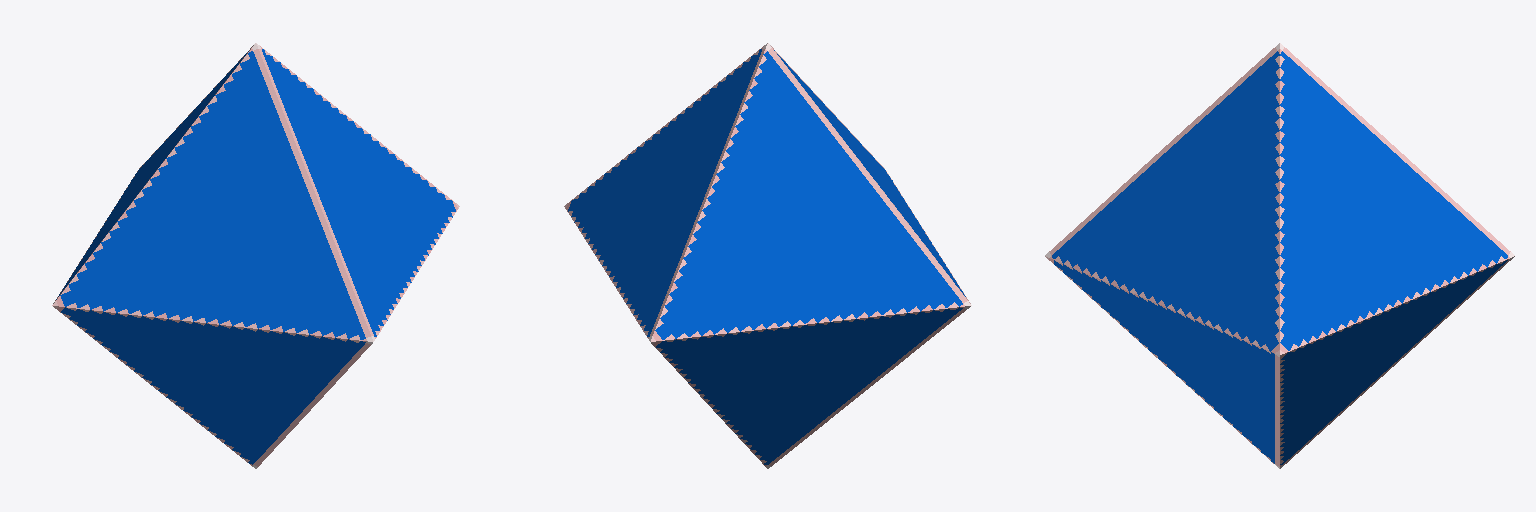
3 views of the same model, side by side, from view 1: azimuth 30°, elevation 25°; view 2: azimuth 150°, elevation 25°; view 3: azimuth 270°, elevation 25° (orthographic).
Parts seen in each view (by area): view 1: 立方体; view 2: 立方体; view 3: 立方体.
Part boxes in pixels (left/top/right/bottom): 立方体: left=52, top=43, right=459, bottom=468; 立方体: left=564, top=43, right=971, bottom=468; 立方体: left=1045, top=43, right=1514, bottom=468.
Size of the model in its own units: 2 by 2 by 2.
Materials: 1 (1 with a texture image).